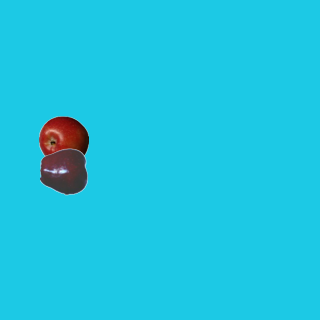Apple Braeburn: (38, 115, 88, 165)
Apple Red Delicious: (39, 146, 89, 196)
